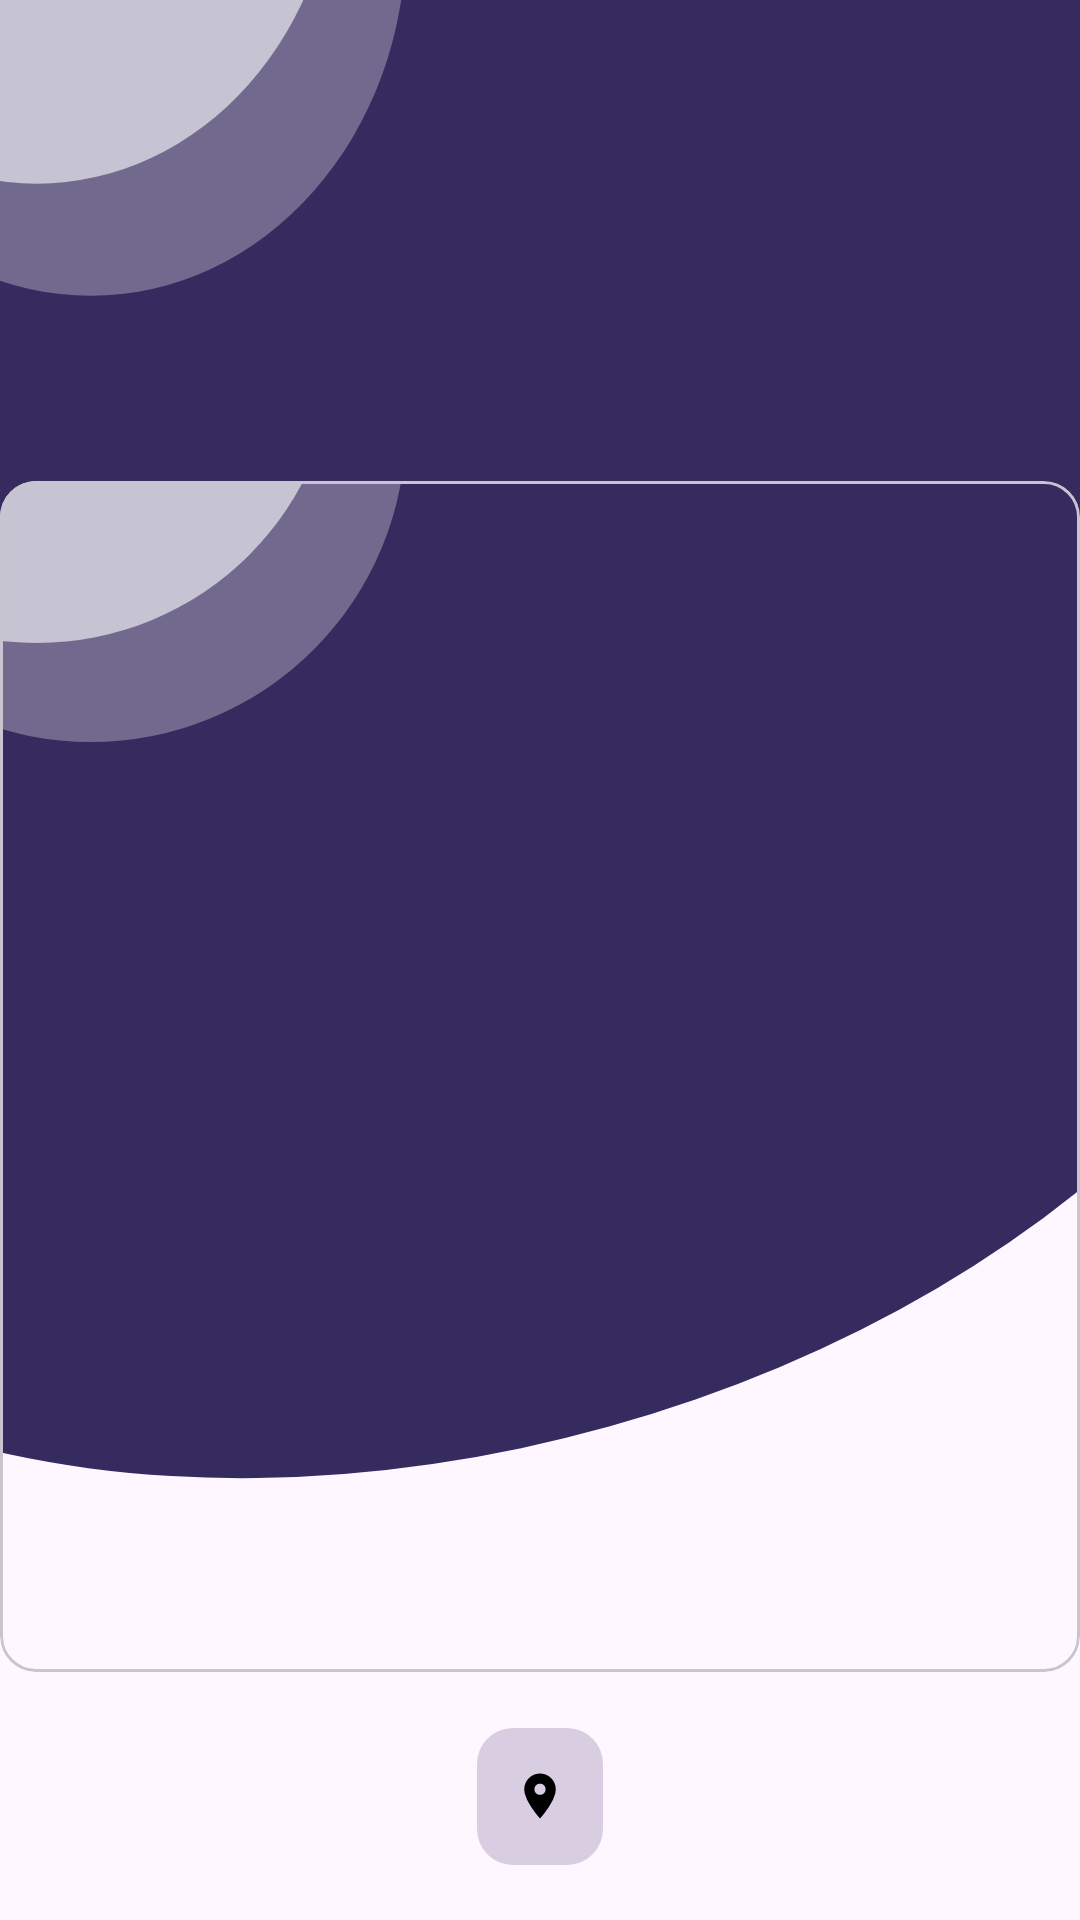

Point at icon controls on the screen. Image size 1080w x 1920h, points as (x=x, y=y).
location: (x=540, y=1795)
